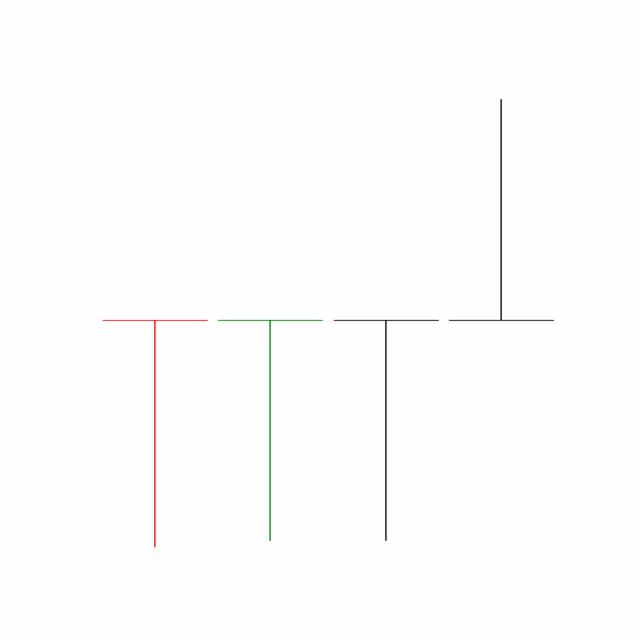Gravestone Doji: (443, 97, 559, 323)
